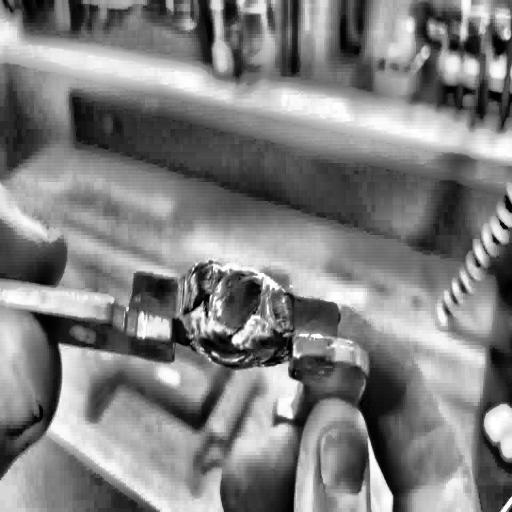busbar: (0, 259, 371, 444)
